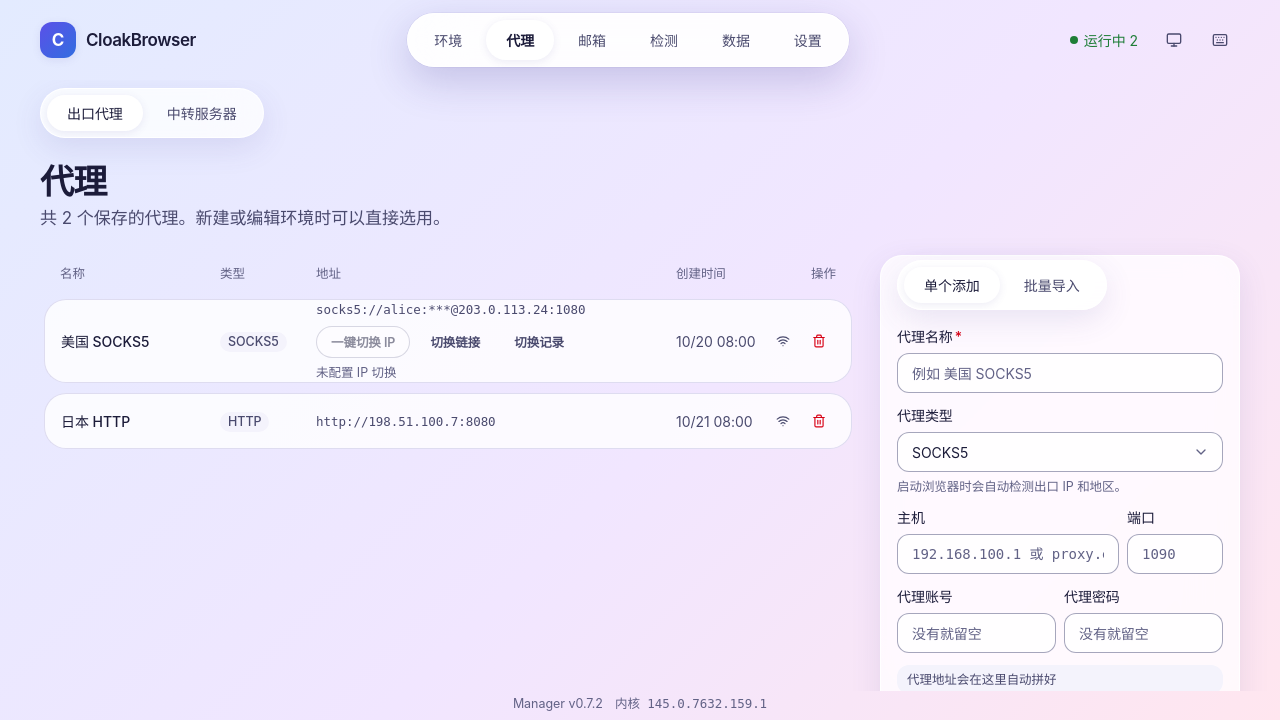
Test: saved proxies › checks a saved proxy's exit
Expected: the heading "代理" is shown, [40,161,106,202]
Click the button named "检测「美国 SOCKS5」的出口" at [783, 341], box [767,325,799,357]
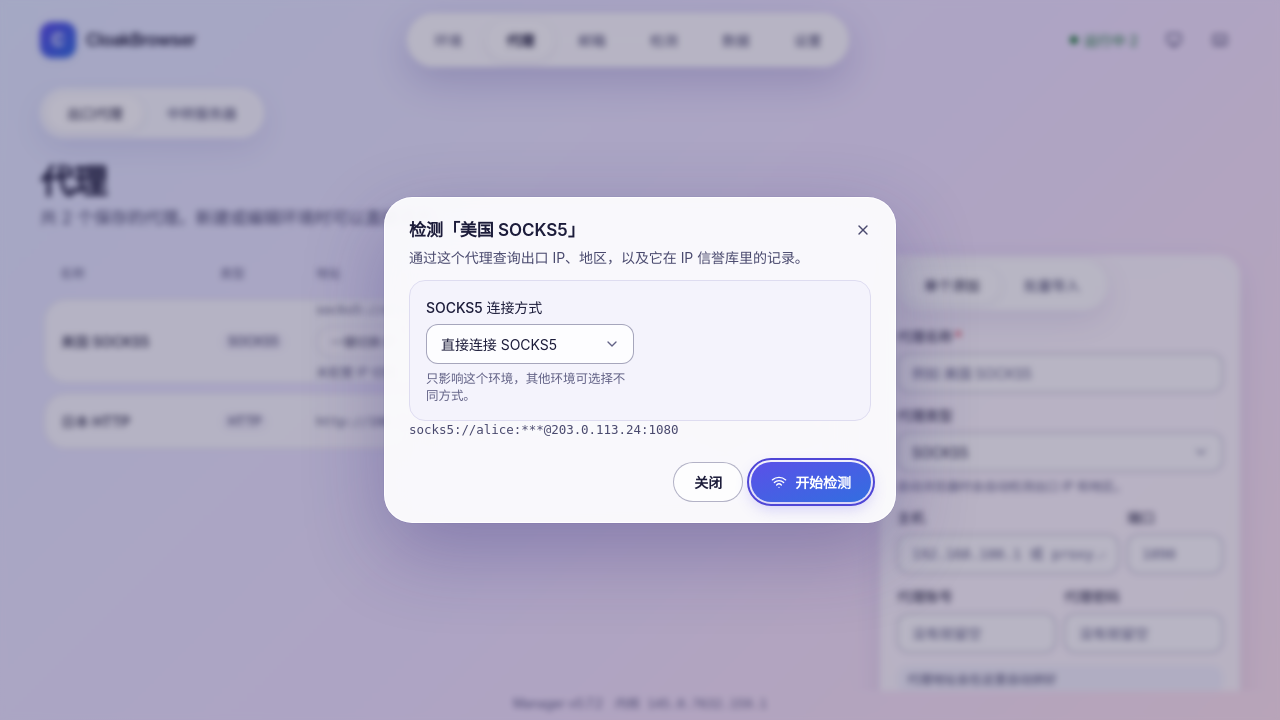
Click the button "开始检测" at [811, 482], box [751,462,871,502]
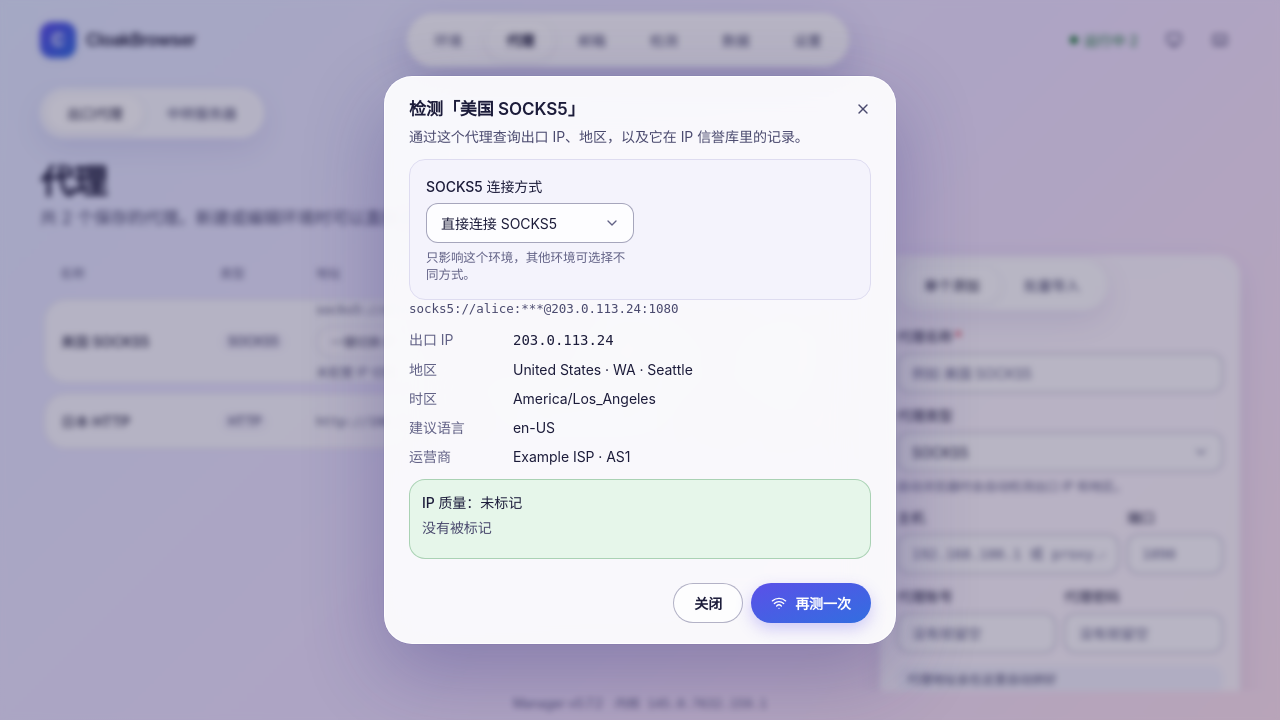
Expected: the text "America/Los_Angeles" is shown, [513,390,656,407]
Expected: the text "IP 质量：未标记" is shown, [422,494,522,511]
